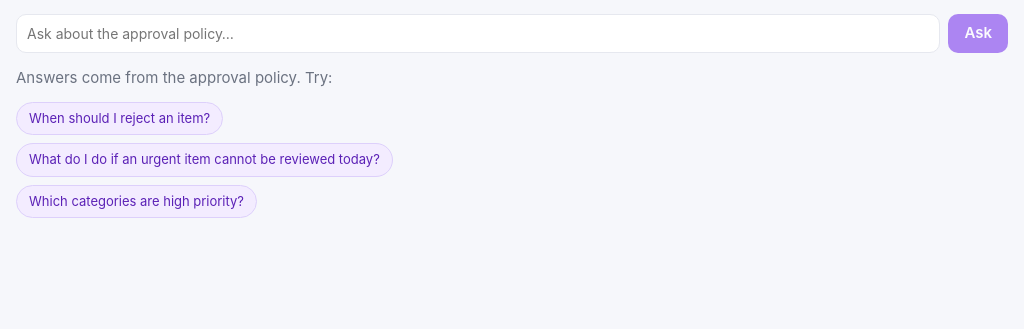
HelpView › shows the matching policy text when the AI is unavailable
In the field named "question": (478, 34) [16, 14, 940, 53], type "When should I reject?"
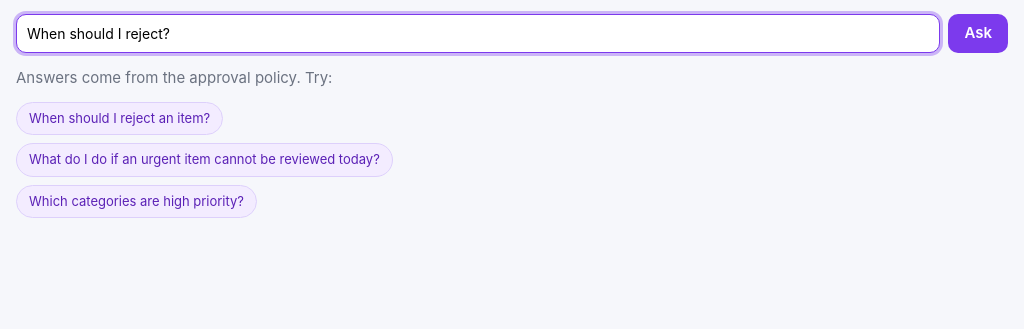
Click the button "Ask": (978, 34) [948, 14, 1008, 53]
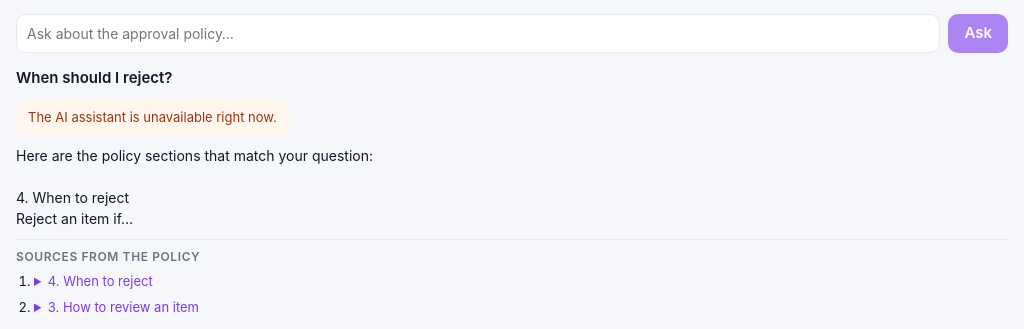
Result: the text "The AI assistant is unavailable right now." is shown at [16, 100, 289, 135]
Result: the text "Here are the policy sections that match your question" is shown at [16, 147, 373, 227]
